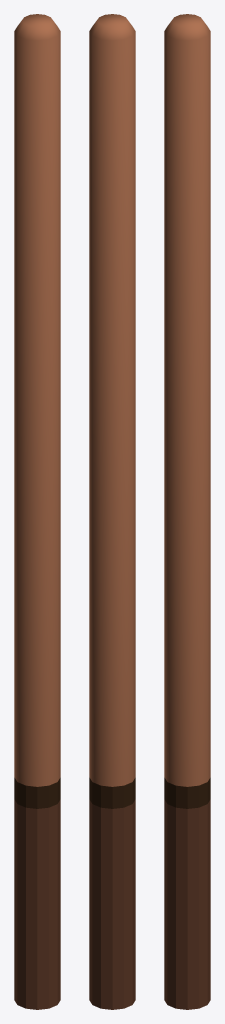
Rendered from Batton_001.fbx.
The picture shows the model from 3 angles, left to right: view 1: azimuth 90°, elevation 25°; view 2: azimuth 150°, elevation 25°; view 3: azimuth 270°, elevation 25°; orthographic projection.
Visible parts, largest first — view 1: Batton.001; view 2: Batton.001; view 3: Batton.001.
Boxes of the visible parts, x1=… form: Batton.001: x1=14, y1=14, x2=60, y2=1009; Batton.001: x1=89, y1=14, x2=135, y2=1009; Batton.001: x1=164, y1=14, x2=210, y2=1009.
Bounding box in the file's own units: 0.1216 × 2.84 × 0.1216.
